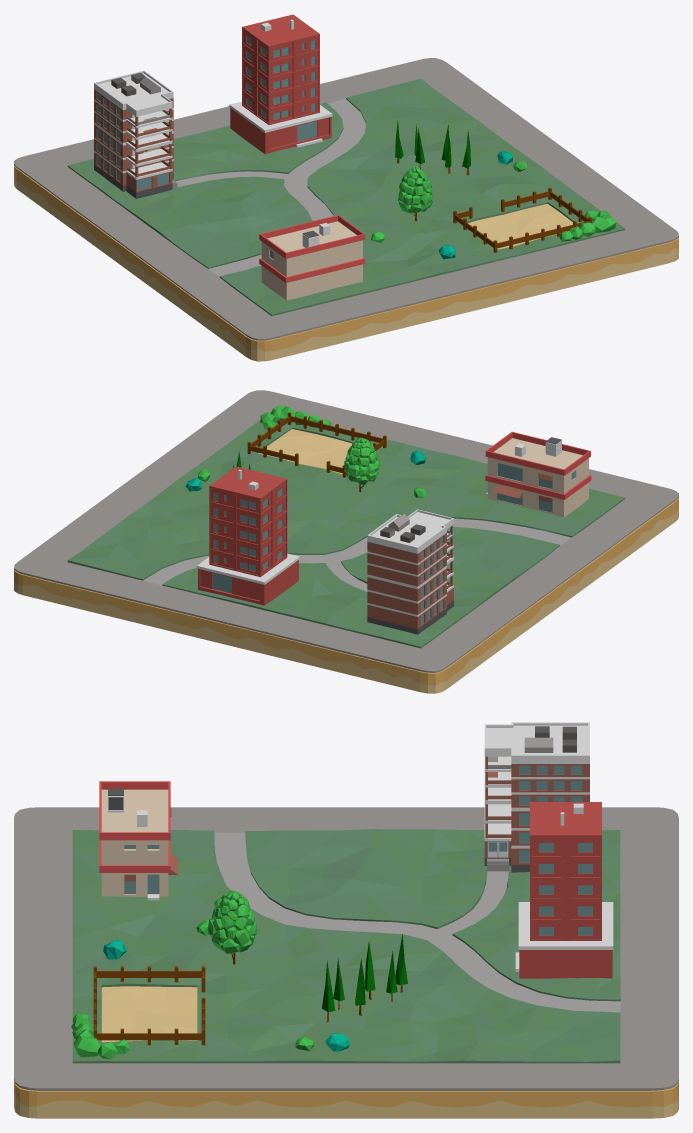
File: low_poly_road_0_0.gltf
The picture shows the model from 3 angles, top to bottom: view 1: azimuth 30°, elevation 25°; view 2: azimuth 150°, elevation 25°; view 3: azimuth 270°, elevation 25°; orthographic projection. The views are drawn at different scales.
Parts seen in each view (by area): view 1: Ground, Cube.003, Cube.001, Cube.004, Ground.001, Tree, Pines_0; view 2: Ground, Cube.003, Cube.001, Cube.004, Ground.001, Tree; view 3: Ground, Cube.003, Cube.001, Cube.004, Ground.001, Tree, Pines_0, Icosphere.003.
Part boxes in pixels (x1=…): Ground: x1=14, y1=58, x2=678, y2=361; Cube.003: x1=229, y1=14, x2=332, y2=154; Cube.001: x1=94, y1=70, x2=177, y2=198; Cube.004: x1=259, y1=215, x2=365, y2=300; Ground.001: x1=453, y1=187, x2=592, y2=252; Tree: x1=398, y1=166, x2=433, y2=221; Pines_0: x1=395, y1=120, x2=470, y2=175; Ground: x1=14, y1=390, x2=678, y2=693; Cube.003: x1=197, y1=466, x2=299, y2=605; Cube.001: x1=367, y1=509, x2=453, y2=634; Cube.004: x1=485, y1=431, x2=591, y2=517; Ground.001: x1=247, y1=412, x2=386, y2=477; Tree: x1=344, y1=437, x2=379, y2=492; Ground: x1=14, y1=807, x2=678, y2=1118; Cube.003: x1=515, y1=802, x2=613, y2=978; Cube.001: x1=484, y1=722, x2=589, y2=872; Cube.004: x1=99, y1=781, x2=178, y2=900; Ground.001: x1=93, y1=966, x2=205, y2=1045; Tree: x1=208, y1=890, x2=257, y2=964; Pines_0: x1=322, y1=933, x2=407, y2=1022; Icosphere.003: x1=73, y1=1029, x2=129, y2=1057.
Bounding box in the file's own units: 40 × 12.07 × 40.
